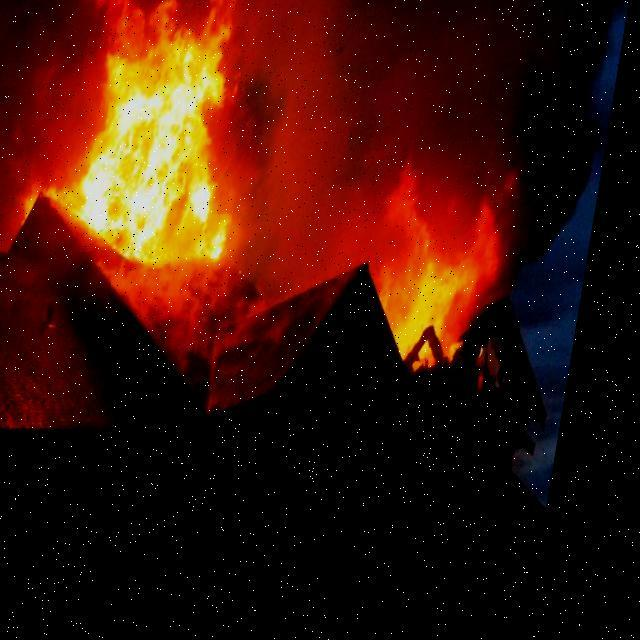Fire: (28, 0, 278, 293), (359, 162, 522, 388)
